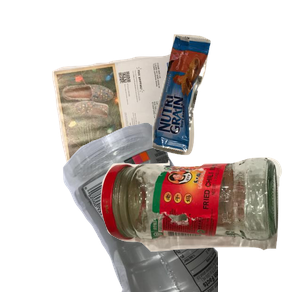glass: (98, 155, 300, 300)
paper: (49, 51, 235, 212)
plastic: (60, 120, 300, 300)
trash: (149, 31, 300, 179)
